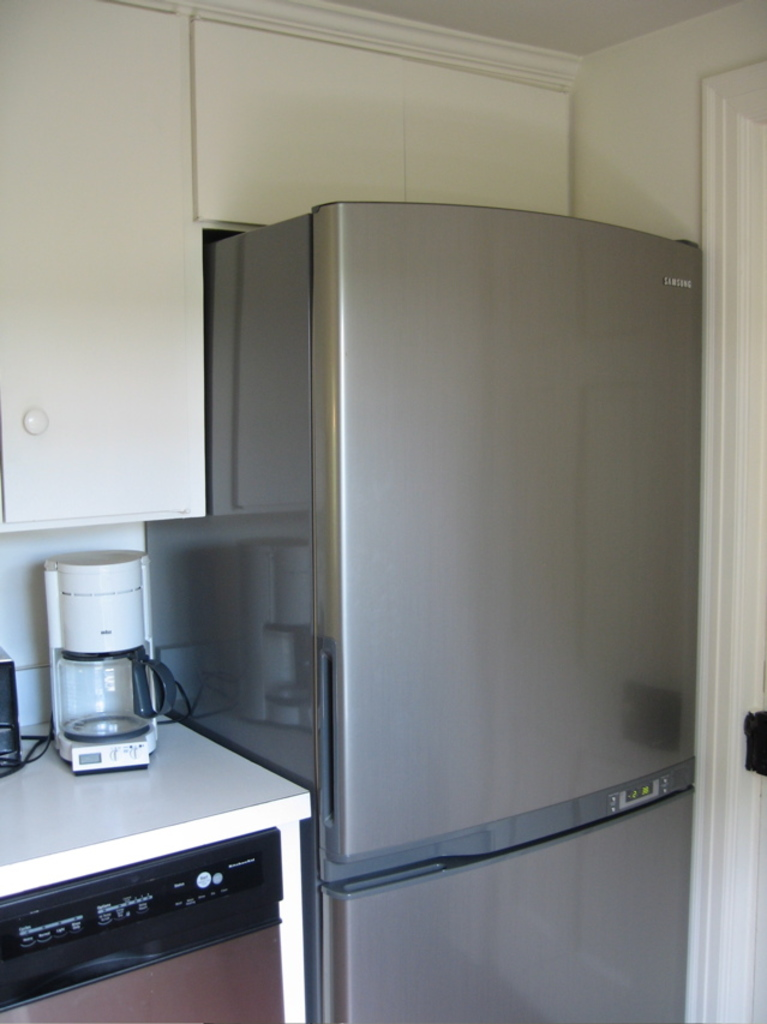cabinet door: (9, 41, 201, 498), (206, 60, 404, 216), (397, 78, 562, 232)
handle: (314, 646, 350, 822), (18, 404, 49, 448)
refrigerator door: (329, 226, 691, 782), (331, 866, 678, 1024)
